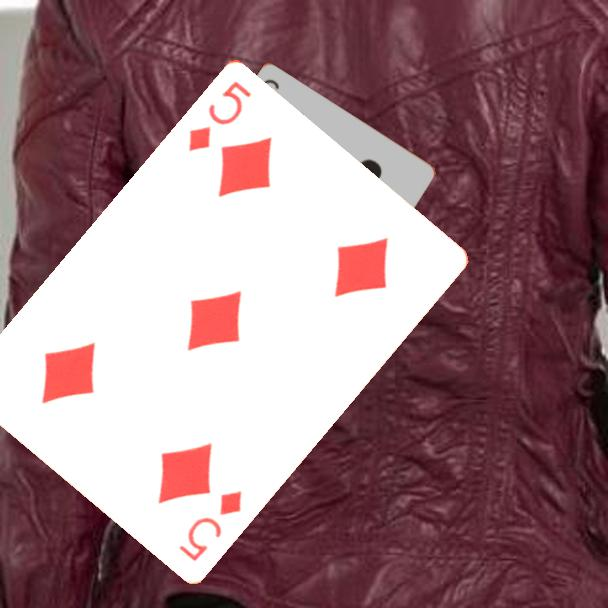d05: (184, 76, 255, 154), (175, 486, 245, 564)
